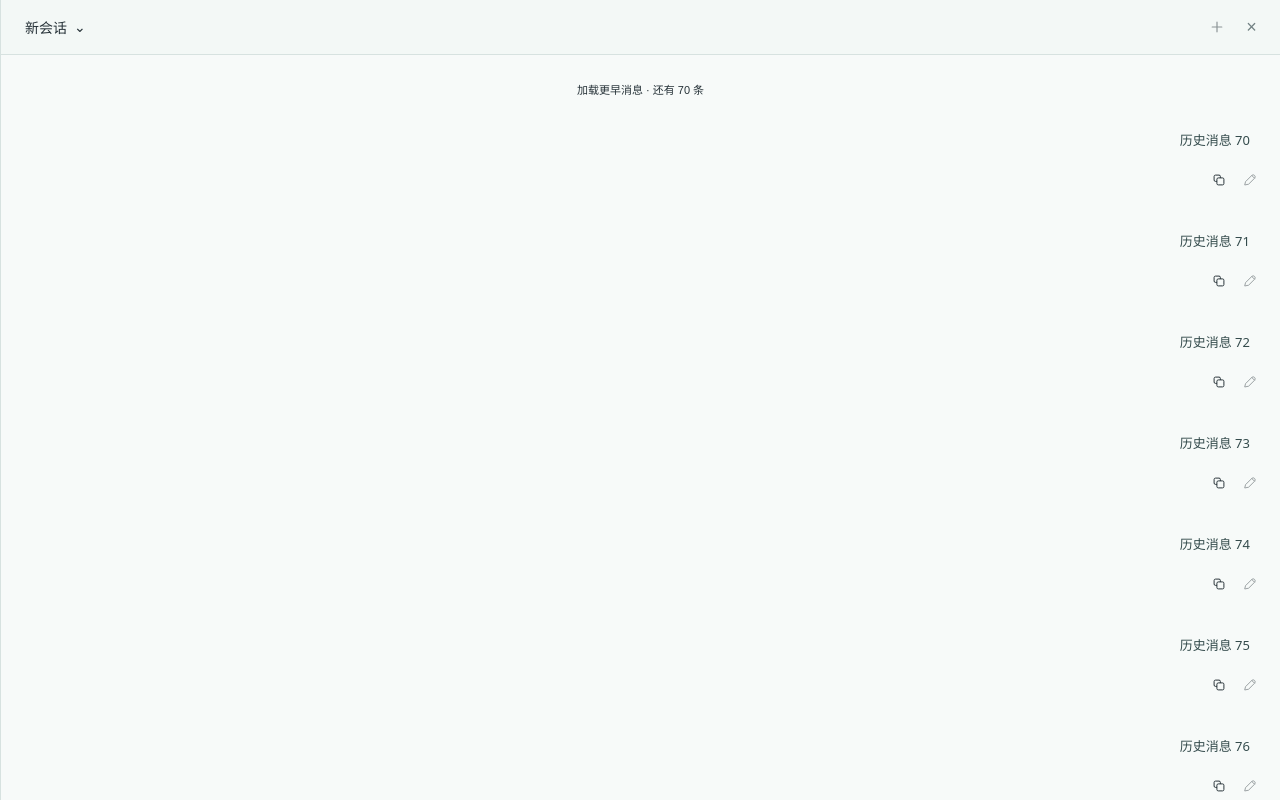
Scenario: 长会话只渲染有上限的消息窗口，主动加载旧消息时继续保持视口锚点
Expected: the element showing "历史消息 70" is shown, [142,117,1264,194]
Click the button with test id "load-older-messages": [640, 89] box [566,75,715,103]
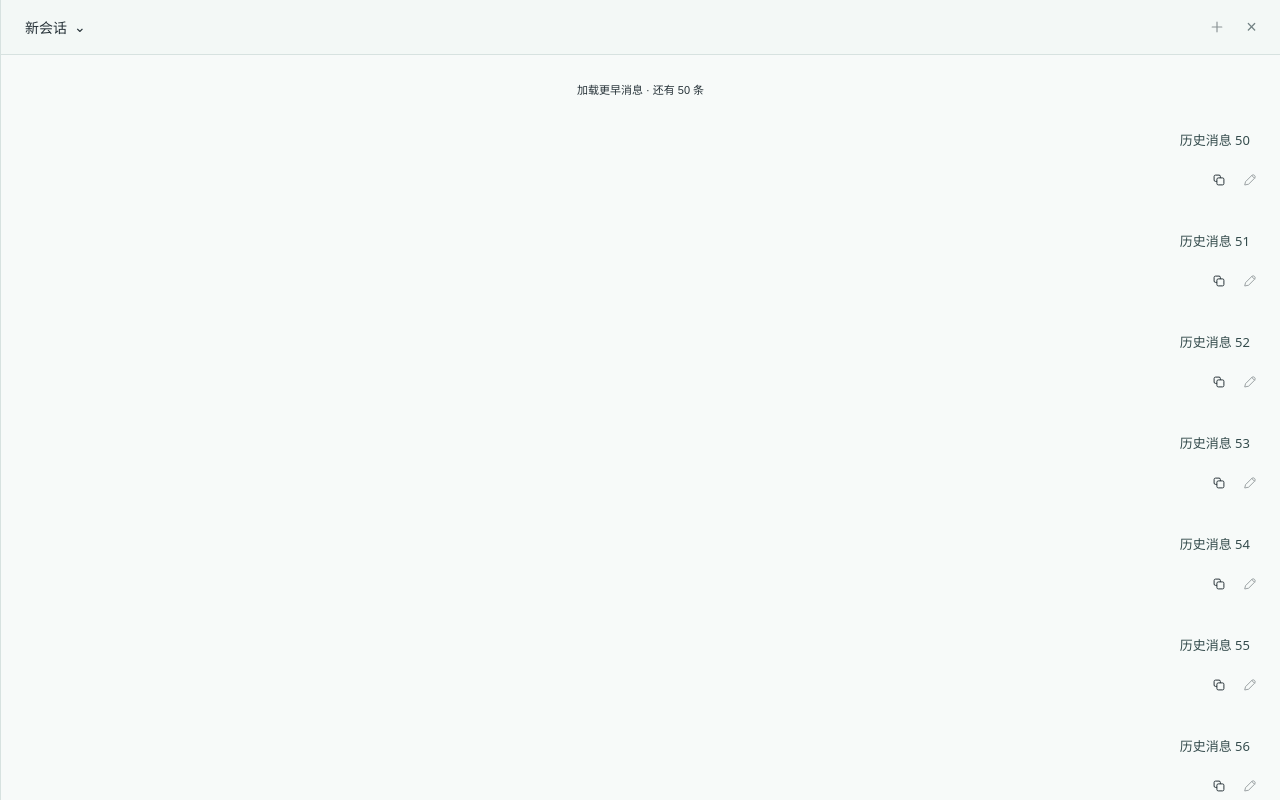
Expected: the element showing "历史消息 50" is shown, [142,117,1264,194]
